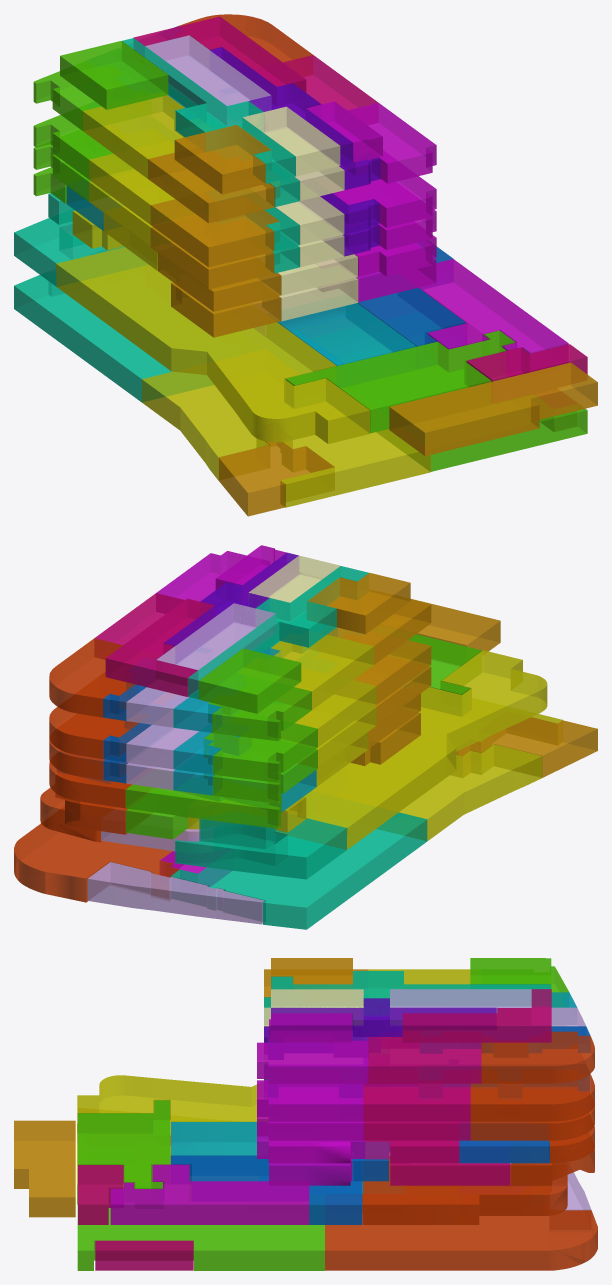
Rendered from PORISRoomSensor.fbx.
3 renders of one model, top to bottom at view 1: azimuth 30°, elevation 25°; view 2: azimuth 150°, elevation 25°; view 3: azimuth 270°, elevation 25°, orthographic. The views are drawn at different scales.
Visible parts, largest first — view 1: Ground_2 (×7), Ground_1 (×6), Ground_3 (×7), Ground_5 (×5), Ground_10 (×5), Ground_6 (×5), Ground_8 (×4), Ground_4 (×4), Ground_7 (×3), Ground_12 (×4), Ground_9, Ground_11; view 2: Ground_2 (×7), Ground_1 (×7), Ground_3 (×8), Ground_4 (×7), Ground_7 (×6), Ground_5 (×4), Ground_6 (×4), Ground_11 (×3), Ground_8 (×3), Ground_10, Ground_9 (×3); view 3: Ground_5 (×7), Ground_4 (×7), Ground_6 (×7), Ground_8 (×3), Ground_7 (×5), Ground_10 (×4), Ground_2 (×3), Ground_9 (×4), Ground_3, Ground_1 (×2), Ground_11.
Boxes of the visible parts, <box> form: Ground_2 (×7): <box>56,95,430,507</box>; Ground_1 (×6): <box>14,41,213,402</box>; Ground_3 (×7): <box>33,16,334,516</box>; Ground_5 (×5): <box>103,38,587,471</box>; Ground_10 (×5): <box>300,157,597,456</box>; Ground_6 (×5): <box>158,47,436,311</box>; Ground_8 (×4): <box>243,106,568,353</box>; Ground_4 (×4): <box>66,14,416,366</box>; Ground_7 (×3): <box>145,35,465,346</box>; Ground_12 (×4): <box>275,166,357,295</box>; Ground_9: <box>466,344,587,381</box>; Ground_11: <box>279,277,358,321</box>; Ground_2 (×7): <box>187,573,562,849</box>; Ground_1 (×7): <box>170,648,427,929</box>; Ground_3 (×8): <box>101,598,597,851</box>; Ground_4 (×7): <box>14,545,316,902</box>; Ground_7 (×6): <box>49,603,280,924</box>; Ground_5 (×4): <box>94,566,482,786</box>; Ground_6 (×4): <box>40,551,420,842</box>; Ground_11 (×3): <box>126,687,199,789</box>; Ground_8 (×3): <box>126,555,340,886</box>; Ground_10: <box>411,599,500,651</box>; Ground_9 (×3): <box>103,683,151,783</box>; Ground_5 (×7): <box>77,971,550,1270</box>; Ground_4 (×7): <box>171,1013,597,1270</box>; Ground_6 (×7): <box>95,998,567,1270</box>; Ground_8 (×3): <box>110,989,549,1224</box>; Ground_7 (×5): <box>170,989,594,1224</box>; Ground_10 (×4): <box>14,1026,417,1217</box>; Ground_2 (×3): <box>77,958,470,1133</box>; Ground_9 (×4): <box>78,1026,590,1224</box>; Ground_3: <box>402,989,551,1042</box>; Ground_1 (×2): <box>470,958,568,1007</box>; Ground_11: <box>551,1007,585,1026</box>.
Bounding box in the file's own units: 7232 × 4899 × 12474.
